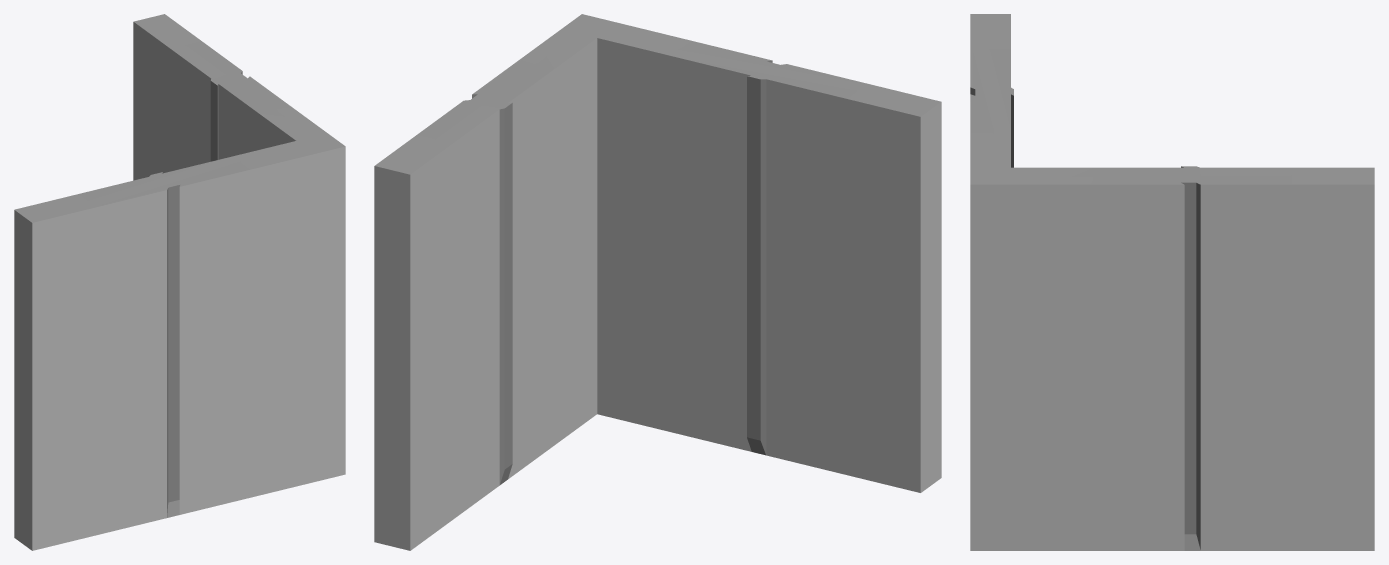
Rendered from ConcreteCornerHalfWall.fbx.
3 renders of one model, left to right at view 1: azimuth 30°, elevation 25°; view 2: azimuth 150°, elevation 25°; view 3: azimuth 270°, elevation 25°, orthographic. The views are drawn at different scales.
Parts seen in each view (by area): view 1: ConcreteCornerHalfWall; view 2: ConcreteCornerHalfWall; view 3: ConcreteCornerHalfWall.
Part boxes in pixels (<box>): ConcreteCornerHalfWall: <box>14,14,345,550</box>; ConcreteCornerHalfWall: <box>374,14,941,550</box>; ConcreteCornerHalfWall: <box>970,14,1374,550</box>.
Size of the model in its own units: 100 by 100 by 100.
